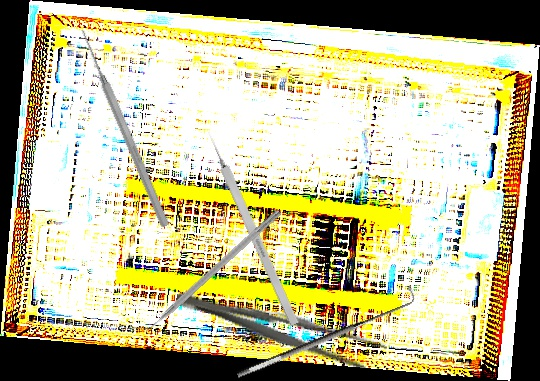Chopper: (130, 200, 283, 341)
Dressing Forceps: (171, 280, 389, 377)
Hook Surgical: (204, 129, 299, 327), (230, 284, 422, 381)
Pusher: (76, 26, 172, 229)
